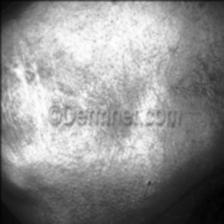Non-Cancerous Skin Condition: (0, 49, 161, 161)
